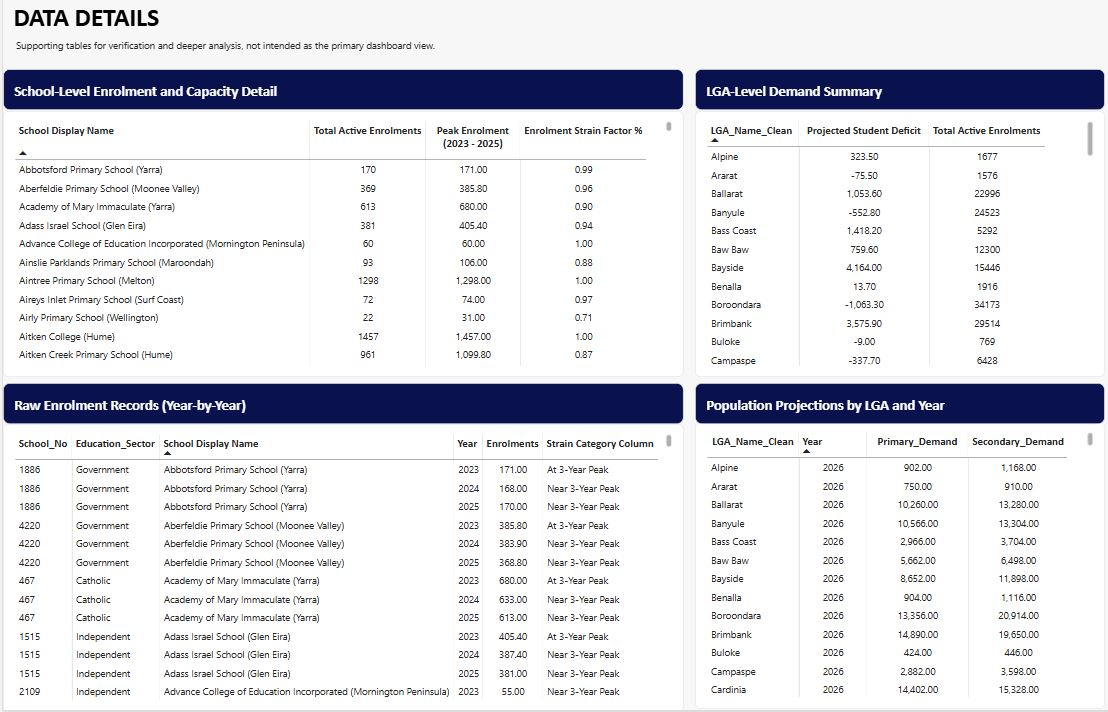

Layout of this report page (visuals, bound fields, positions):
{"tool":"powerbi","page":{"name":"Data Details","canvas":[1920,1080],"ordinal":2},"visuals":[{"type":"tableEx","fields":{"Values":["dim_schools.School Display Name","fact_enrolments.Total Active Enrolments","fact_enrolments.Capacity Threshold","fact_enrolments.Enrolment Strain Factor %"]},"box":[0,205,992.5,387.5],"z":0},{"type":"tableEx","fields":{"Values":["dim_lga.LGA_Name_Clean","dim_population_projection.Projected Student Deficit","fact_enrolments.Total Active Enrolments"]},"box":[1010,205,597.5,387.5],"z":1000},{"type":"tableEx","fields":{"Values":["dim_population_projection.LGA_Name_Clean","dim_population_projection.Year","dim_population_projection.Primary_Demand","dim_population_projection.Secondary_Demand"]},"box":[1010,660,597.5,417.5],"z":2000},{"type":"tableEx","fields":{"Values":["fact_enrolments.School_No","fact_enrolments.Education_Sector","dim_schools.School Display Name","fact_enrolments.Year","Sum(fact_enrolments.Grand Total)","fact_enrolments.Strain Category Column"]},"box":[0,662.5,992.5,420],"z":3000},{"type":"textbox","box":[0,145,992.5,60],"z":4000},{"type":"textbox","box":[1010,145,597.5,60],"z":5000},{"type":"textbox","box":[0,602.5,992.5,60],"z":6000},{"type":"textbox","box":[1010,602.5,597.5,60],"z":7000},{"type":"textbox","box":[0,44.8,1920.3,55.3],"z":8000},{"type":"textbox","box":[18.4,100.1,1901.9,32.9],"z":9000}]}

Visuals, with their boxes on the page's 1920x1080 design canvas (x1, y1, x2, y2). These are canvas units, not pixel positions in the 1108x712 screenshot, which may show the page scaled, cropped or inside an application window:
tableEx - dim_schools.School Display Name x fact_enrolments.Total Active Enrolments: 0:205:992:592
tableEx - dim_lga.LGA_Name_Clean x dim_population_projection.Projected Student Deficit: 1010:205:1608:592
tableEx - dim_population_projection.LGA_Name_Clean x dim_population_projection.Year: 1010:660:1608:1078
tableEx - fact_enrolments.School_No x fact_enrolments.Education_Sector: 0:662:992:1082
textbox: 0:145:992:205
textbox: 1010:145:1608:205
textbox: 0:602:992:662
textbox: 1010:602:1608:662
textbox: 0:45:1920:100
textbox: 18:100:1920:133
